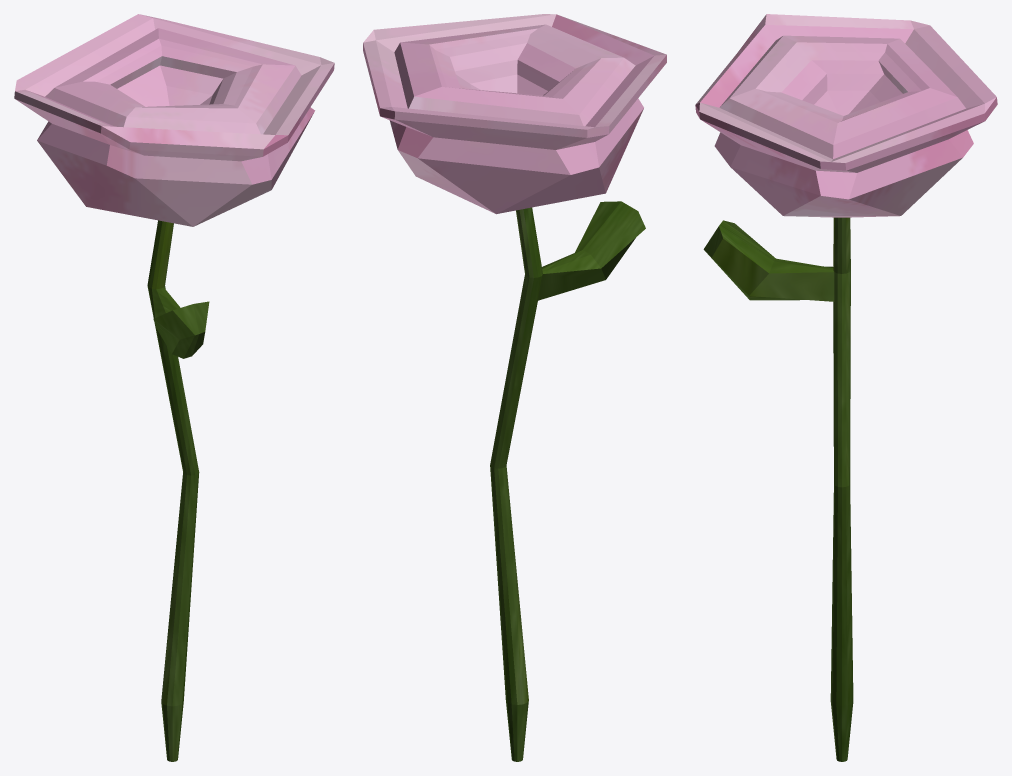
File: pink_rose.fbx
3 views of the same model, side by side, from view 1: azimuth 30°, elevation 25°; view 2: azimuth 150°, elevation 25°; view 3: azimuth 270°, elevation 25° (orthographic). The views are drawn at different scales.
Parts seen in each view (by area): view 1: Cylinder; view 2: Cylinder; view 3: Cylinder.
Part boxes in pixels (x1,y1,x2,y2): Cylinder: (14, 14, 334, 761); Cylinder: (363, 14, 666, 761); Cylinder: (695, 14, 997, 761).
Bounding box in the file's own units: 54.85 × 131 × 51.84.
